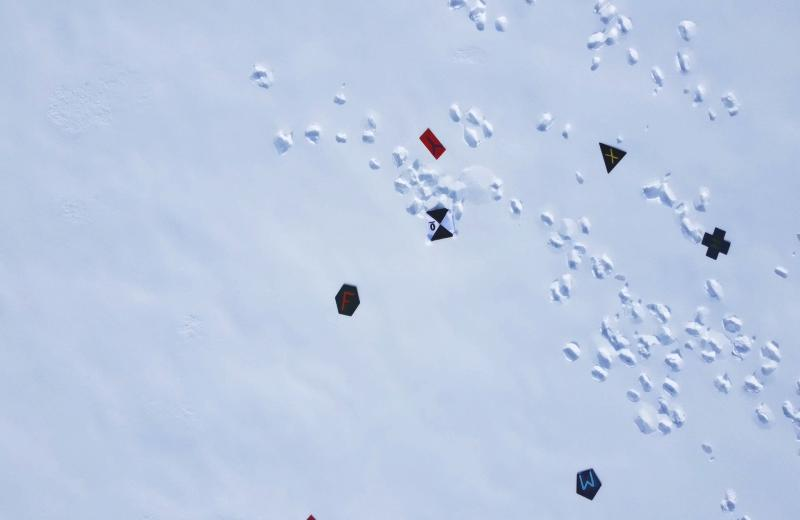Cross: (701, 226, 733, 260)
Hexagon: (332, 280, 363, 315)
Pentagon: (574, 466, 602, 499)
Rectangle: (414, 124, 447, 160)
Triangle: (598, 140, 627, 175)
